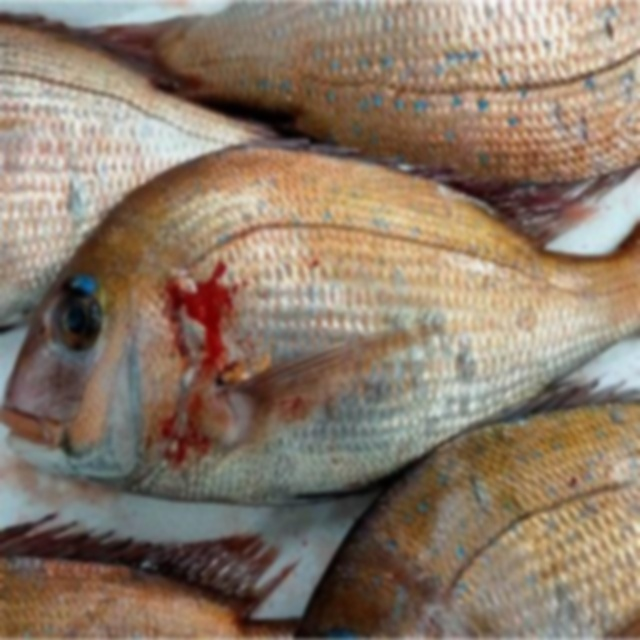EUS Disease: (3, 0, 640, 638), (65, 162, 590, 479), (368, 390, 636, 640), (212, 0, 632, 158), (0, 43, 204, 180)
